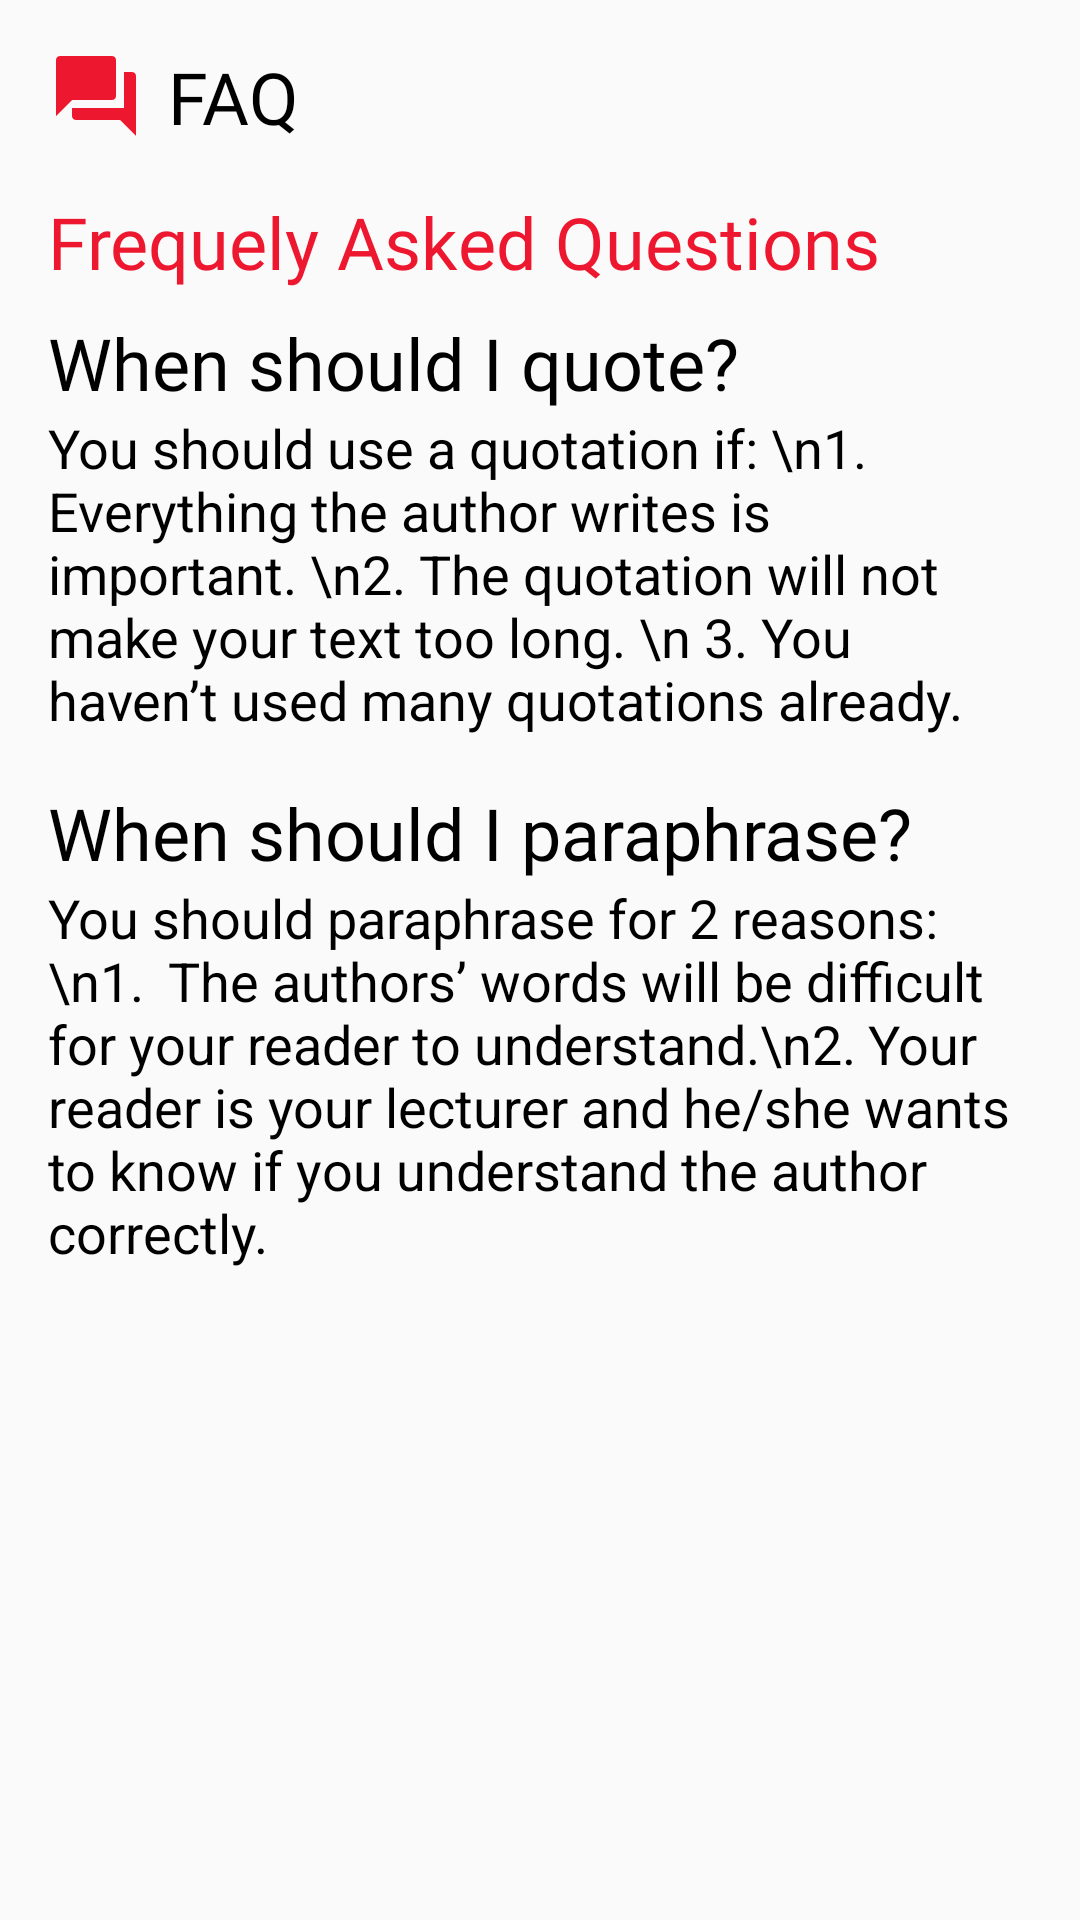

Screen size 1080x1920. Icon name, then its box in pixels as (x1, y1, x2, y2):
head faq: (56, 56, 136, 136)
